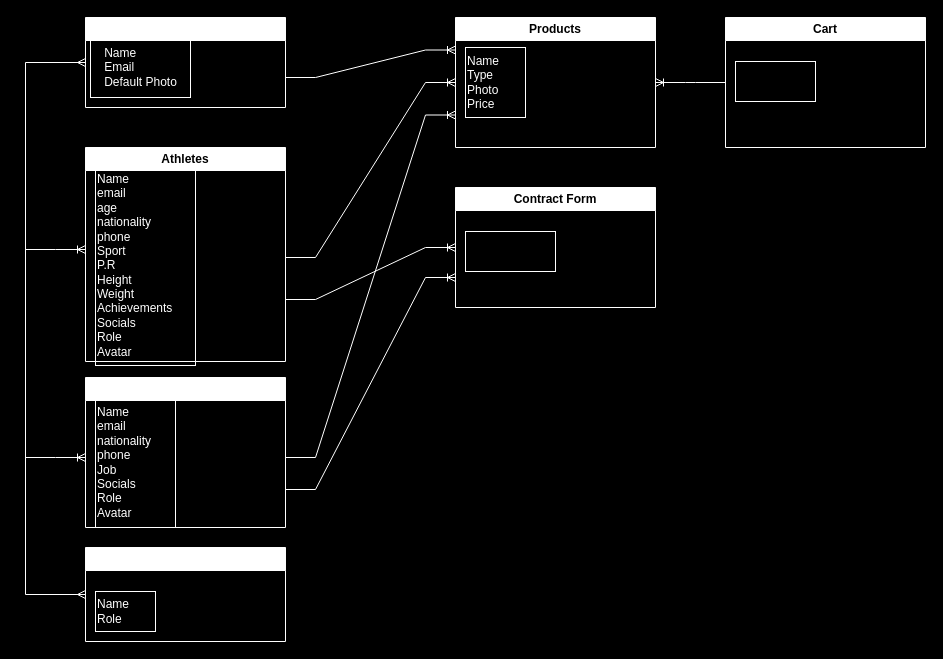
Some shapes in this 943 by 659 pixel diagram are drawn without their labels. The shapes that lost their labels are listed below. From the top down, each one's box as (x1, y1, x2, y2) in pixels, then its label:
(84, 16, 286, 108): User
(734, 60, 816, 102): Product ref Bill
(464, 230, 556, 272): Manager Ref Athlete Ref
(84, 376, 286, 528): Manager
(84, 546, 286, 642): Super Manager
